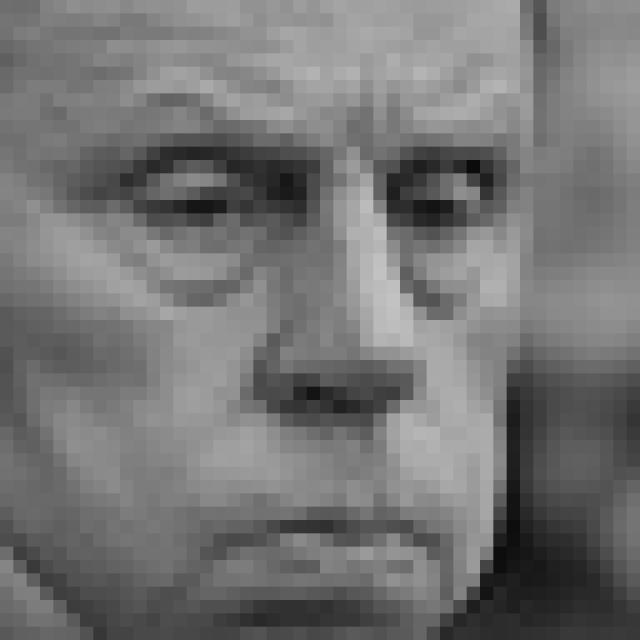disgust: (72, 80, 509, 640)
